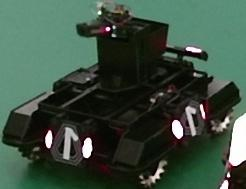armor_1: (45, 130, 93, 159), (172, 104, 206, 139)
front_1: (51, 123, 84, 165)
left_1: (181, 100, 204, 137)
